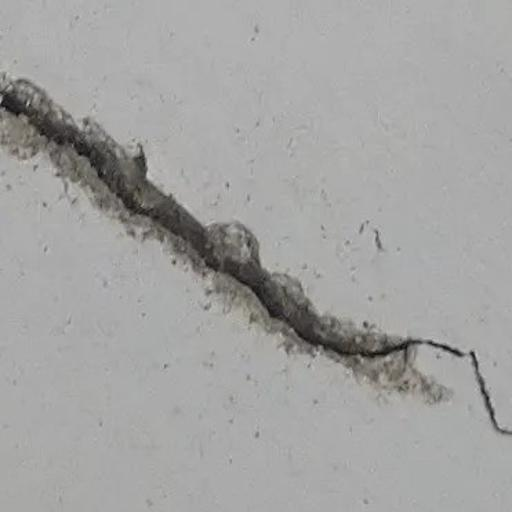major_crack: (0, 61, 512, 441)
